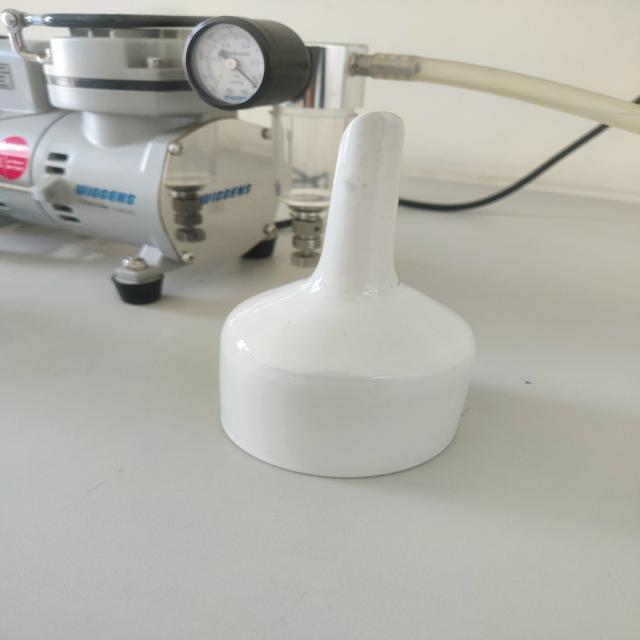Buchner_Funnel: (160, 74, 543, 513)
